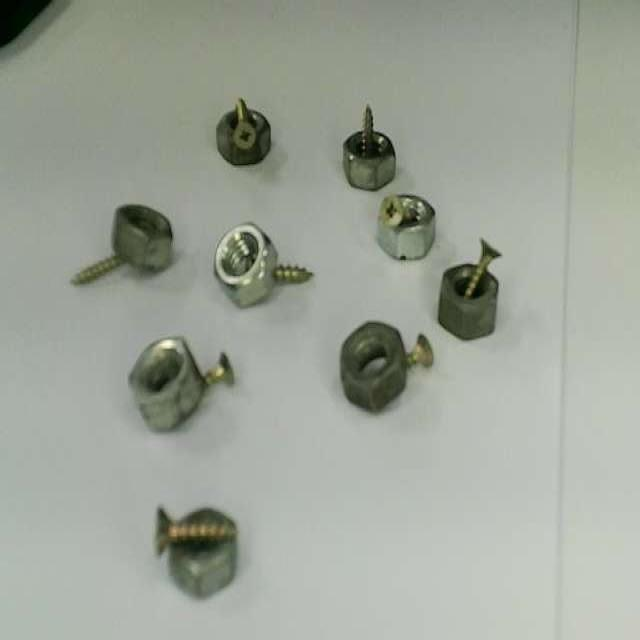Parafuso: (156, 507, 235, 555), (465, 239, 500, 297), (71, 255, 125, 283), (233, 99, 255, 149), (357, 105, 377, 156), (376, 195, 405, 229), (205, 355, 233, 384), (407, 335, 433, 365), (274, 265, 313, 283)
Porca: (129, 339, 205, 432), (165, 507, 238, 601), (341, 320, 410, 411), (217, 222, 277, 307), (110, 203, 176, 272), (438, 264, 498, 339), (378, 196, 434, 257), (217, 109, 276, 164), (344, 130, 397, 187)
